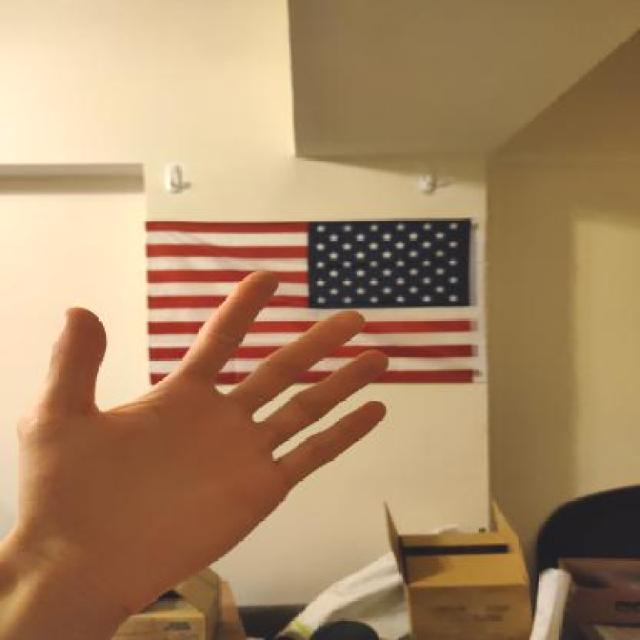no_glove: (0, 257, 405, 638)
